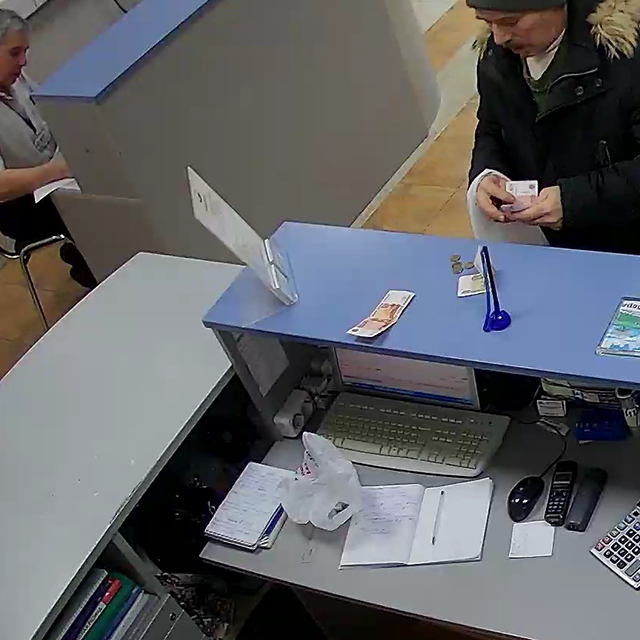banknotes: (347, 287, 414, 338), (503, 177, 540, 218), (456, 272, 487, 298)
